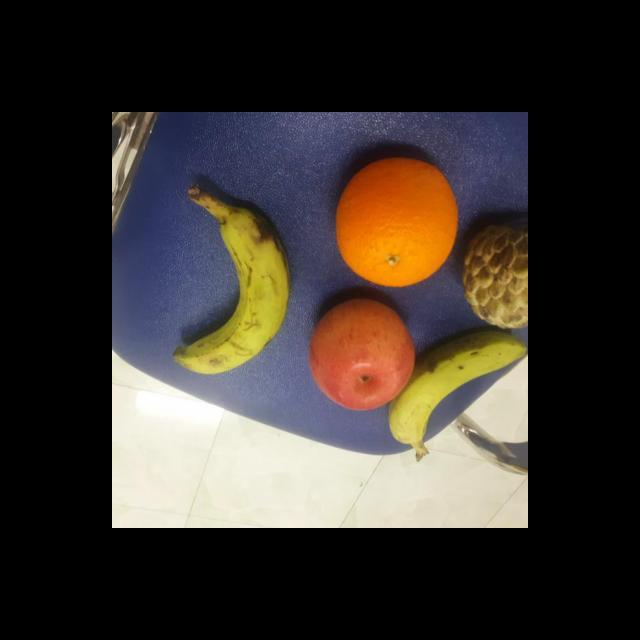Sakya fruit: (455, 222, 528, 330)
apple: (306, 297, 417, 413)
banana: (169, 206, 293, 378), (387, 326, 528, 448)
orange: (336, 155, 459, 291)
